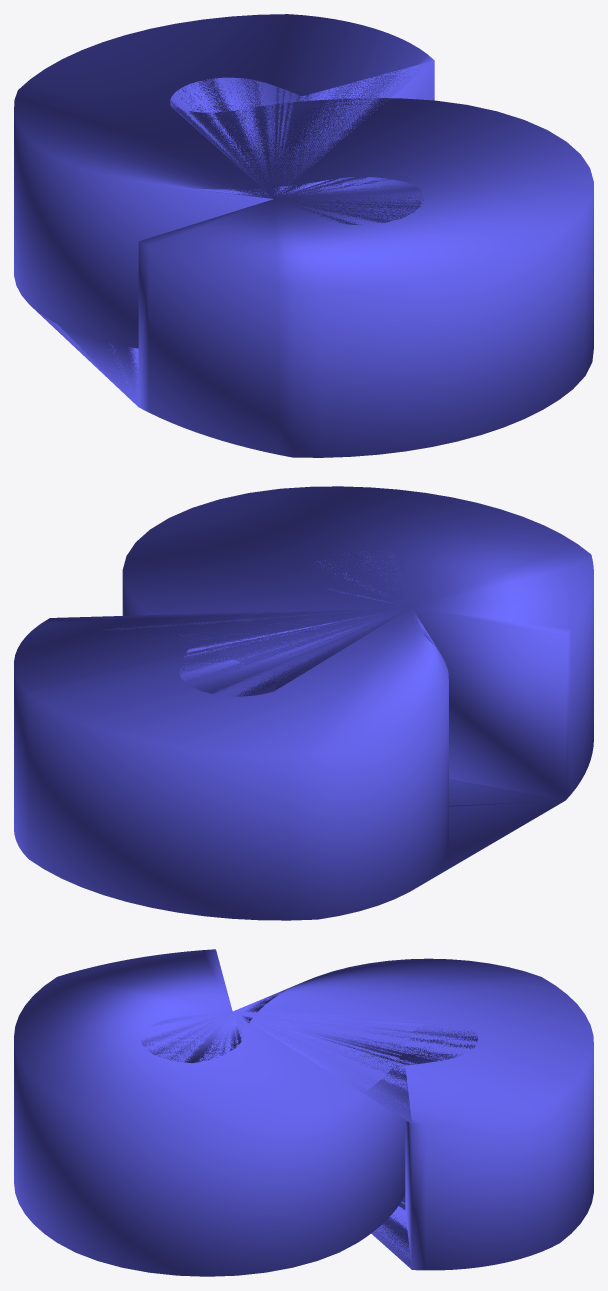
3 views of the same model, one above another, from view 1: azimuth 30°, elevation 25°; view 2: azimuth 150°, elevation 25°; view 3: azimuth 270°, elevation 25° (orthographic). The views are drawn at different scales.
Visible parts, largest first — view 1: S1; view 2: S1; view 3: S1.
Part boxes in pixels (<box>): S1: <box>14,14,593,457</box>; S1: <box>14,486,593,920</box>; S1: <box>14,949,593,1276</box>.
Bounding box in the file's own units: 15.76 × 5.91 × 21.27.
